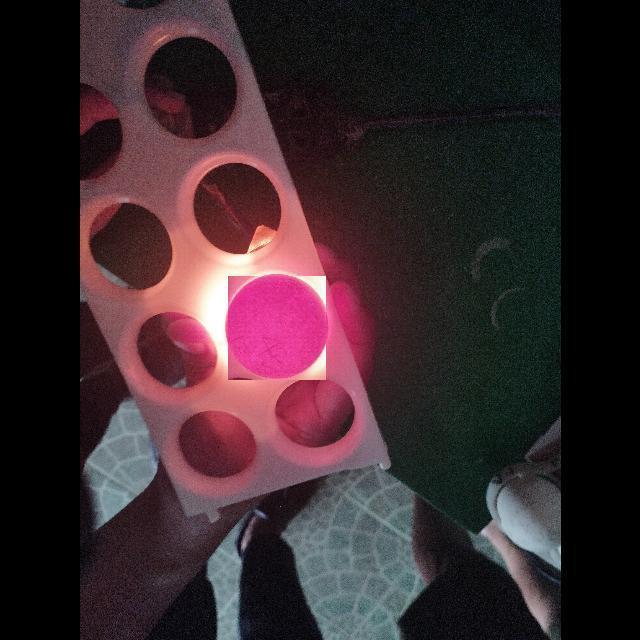Infertile: (228, 276, 326, 380)
